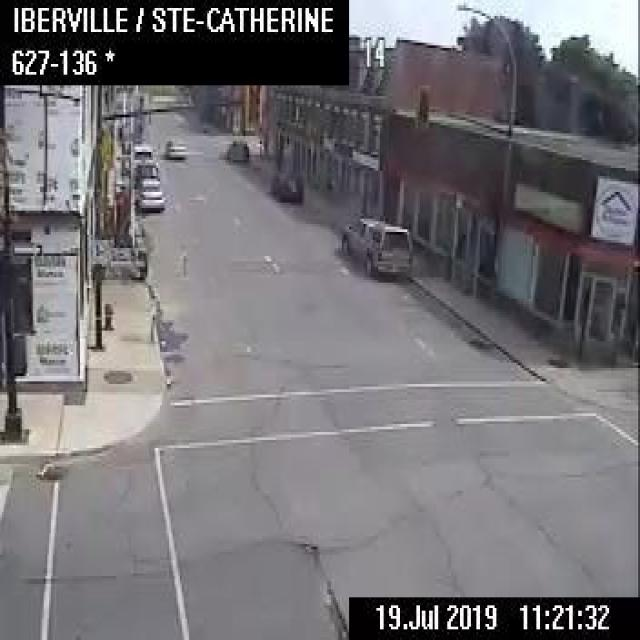construction: (89, 83, 144, 280)
vehicle: (340, 214, 414, 276), (270, 166, 302, 200), (135, 175, 163, 208), (222, 134, 249, 166), (132, 156, 158, 184), (165, 135, 186, 157), (133, 142, 152, 158)
